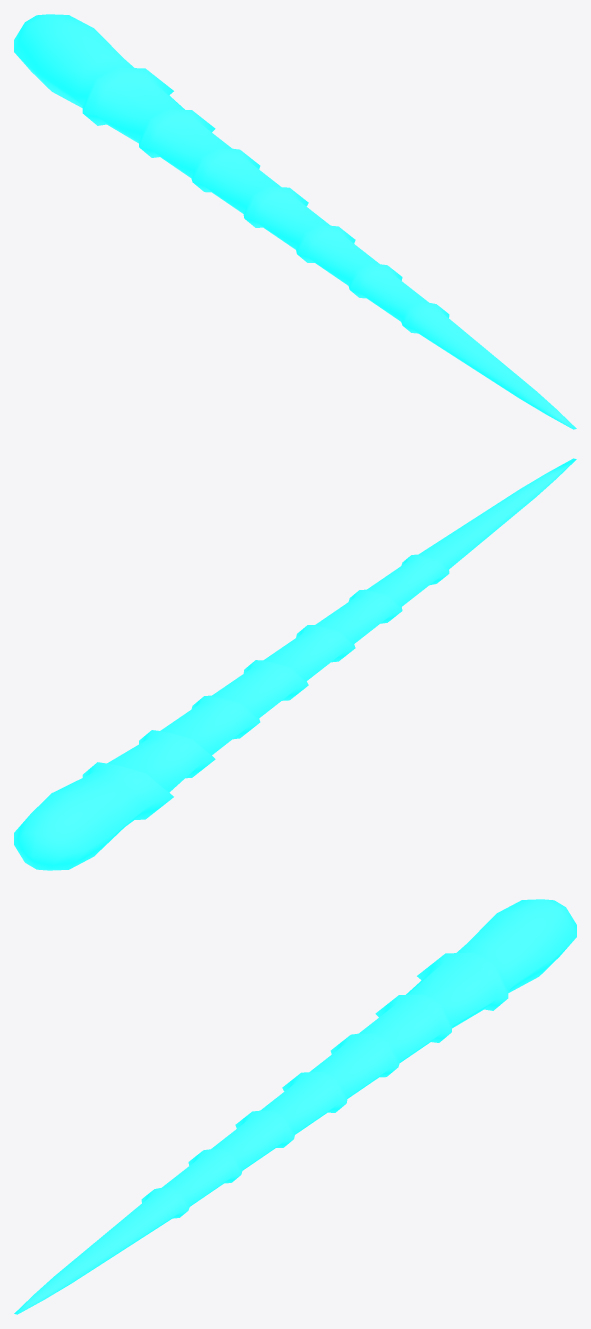
File: SM_IonBlast.fbx
3 renders of one model, top to bottom at view 1: azimuth 30°, elevation 25°; view 2: azimuth 150°, elevation 25°; view 3: azimuth 330°, elevation 25°, orthographic.
Parts seen in each view (by area): view 1: SM_IonBlast; view 2: SM_IonBlast; view 3: SM_IonBlast.
Boxes of the visible parts, x1,y1,x2,y2 form: SM_IonBlast: (14, 14, 576, 429); SM_IonBlast: (14, 458, 576, 870); SM_IonBlast: (14, 899, 576, 1314).
Bounding box in the file's own units: 49.89 × 514 × 32.92.
